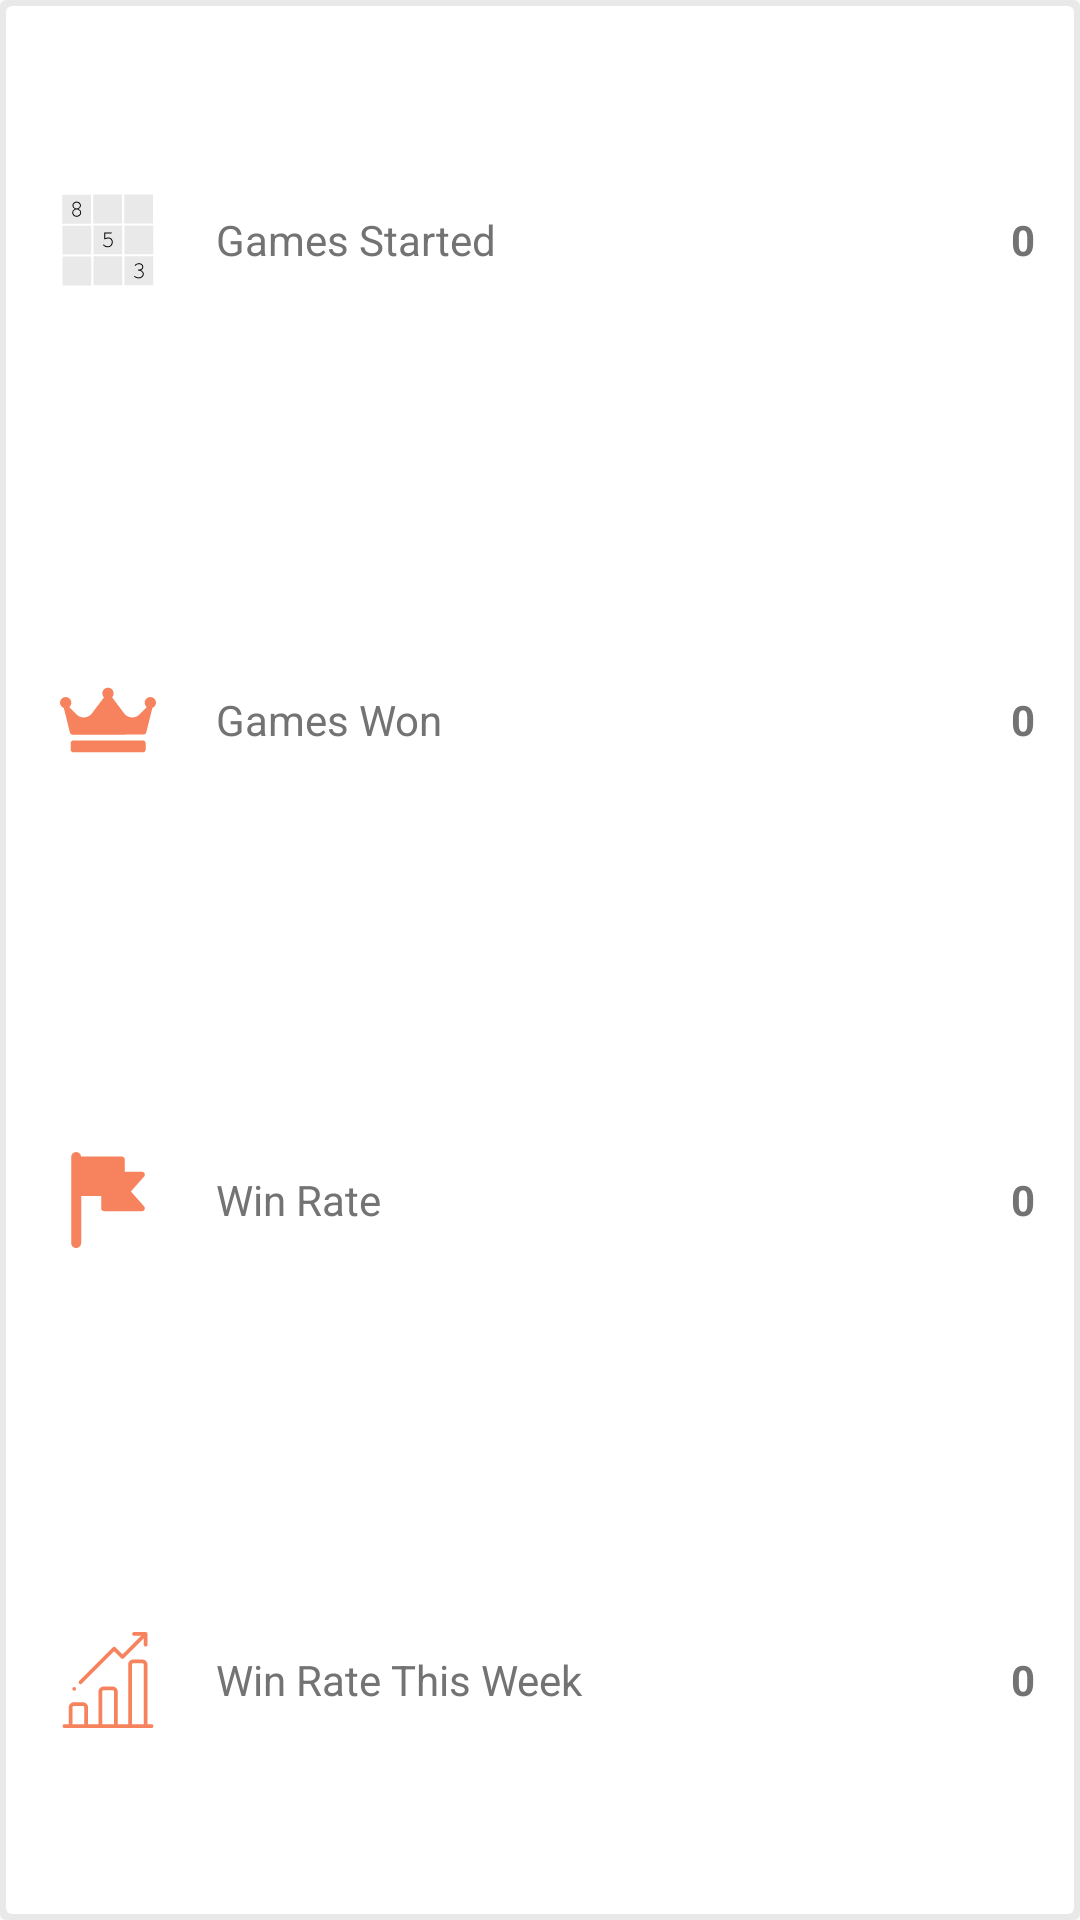

Named icons in this screenshot (1080px×1920px) and their centers, point (x, y):
bar chart: point (108, 1680)
crown: point (108, 720)
flag waving: point (108, 1200)
sudoku: point (108, 240)
